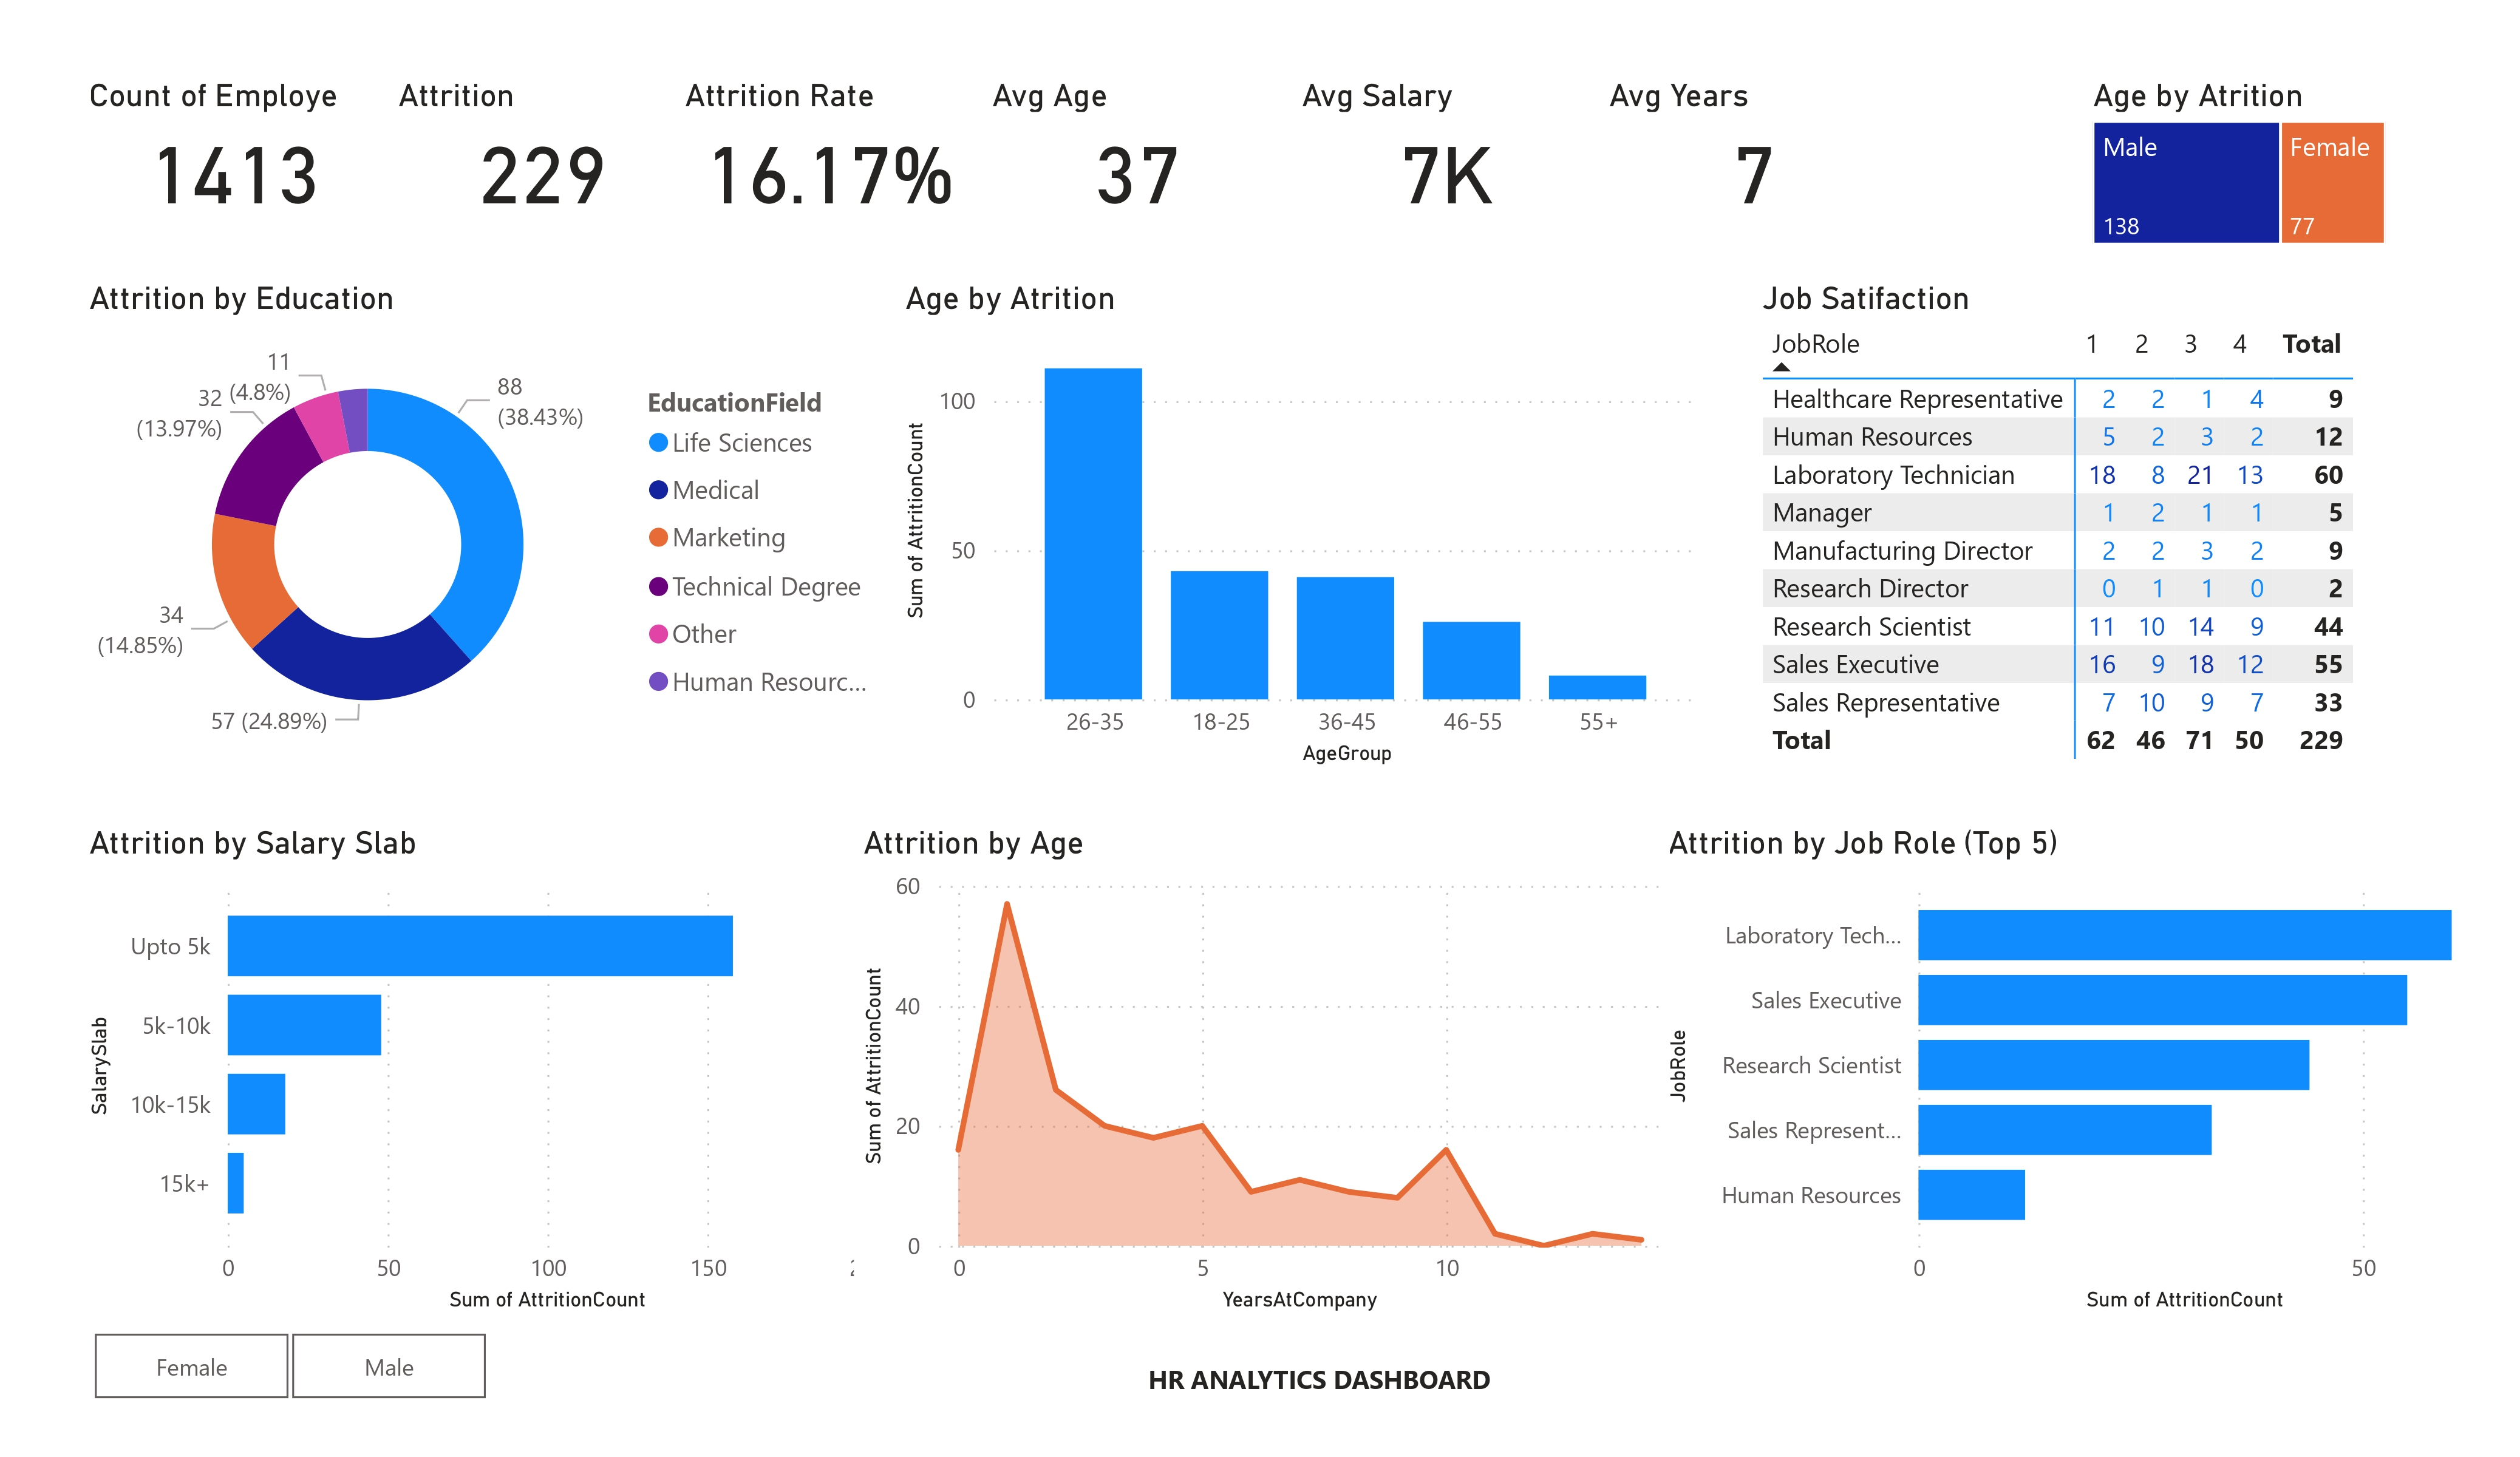

What the dashboard file says about the page in this screenshot:
{"tool":"powerbi","page":{"name":"Page 1","canvas":[1280,720],"ordinal":0},"visuals":[{"type":"card","title":"Count of Employe","fields":{"Values":["Count(HR_Analytics.EmpID)"]},"box":[18.5,15.6,162.4,77.8],"z":0},{"type":"card","title":"Attrition","fields":{"Values":["Sum(HR_Analytics.AttritionCount)"]},"box":[180.9,15.6,162.4,77.8],"z":1000},{"type":"card","title":"Attrition Rate","fields":{"Values":["HR_Analytics.AttritionRate"]},"box":[331.7,15.6,162.4,77.8],"z":2000},{"type":"card","title":"Avg Age","fields":{"Values":["Avg(HR_Analytics.Age)"]},"box":[494.1,15.6,162.4,77.8],"z":3000},{"type":"card","title":"Avg Salary","fields":{"Values":["Avg(HR_Analytics.MonthlyIncome)"]},"box":[656.5,15.6,162.4,77.8],"z":4000},{"type":"card","title":"Avg Years","fields":{"Values":["Avg(HR_Analytics.YearsAtCompany)"]},"box":[819,15.6,162.4,77.8],"z":5000},{"type":"donutChart","title":"Attrition by Education","fields":{"Y":["Sum(HR_Analytics.AttritionCount)"],"Category":["HR_Analytics.EducationField"]},"box":[18.2,122.7,429.5,261.4],"z":6000},{"type":"clusteredColumnChart","title":"Age by Atrition","fields":{"Category":["HR_Analytics.AgeGroup"],"Y":["Sum(HR_Analytics.AttritionCount)"]},"box":[447.7,122.7,429.5,261.4],"z":7000},{"type":"pivotTable","title":"Job Satifaction","fields":{"Rows":["HR_Analytics.JobRole"],"Columns":["HR_Analytics.JobSatisfaction"],"Values":["Sum(HR_Analytics.AttritionCount)"]},"box":[900,122.5,337.5,267.5],"z":8000},{"type":"clusteredBarChart","title":" Attrition by Salary Slab","fields":{"Category":["HR_Analytics.SalarySlab"],"Y":["Sum(HR_Analytics.AttritionCount)"]},"box":[18,410,430,262],"z":9000},{"type":"clusteredBarChart","title":"Attrition by Job Role (Top 5)","fields":{"Category":["HR_Analytics.JobRole"],"Y":["Sum(HR_Analytics.AttritionCount)"]},"box":[850,410,430,262],"z":10000},{"type":"stackedAreaChart","title":"Attrition by Age ","fields":{"Category":["HR_Analytics.YearsAtCompany"],"Y":["Sum(HR_Analytics.AttritionCount)"]},"box":[426,410,430,262],"z":11000},{"type":"treemap","title":"Age by Atrition","fields":{"Group":["HR_Analytics.Gender"],"Values":["Sum(HR_Analytics.AttritionCount)"]},"box":[1074,16,164,94],"z":12000},{"type":"slicer","fields":{"Values":["HR_Analytics.Gender"]},"box":[0,672,256,48],"z":13000},{"type":"textbox","box":[575.7,688.6,254.3,31.4],"z":14000}]}

Visuals, with their boxes on the page's 1280x720 design canvas (x1, y1, x2, y2). These are canvas units, not pixel positions in the 2520x1457 screenshot, which may show the page scaled, cropped or inside an application window:
"Count of Employe" card: x1=18 y1=16 x2=181 y2=93
"Attrition" card: x1=181 y1=16 x2=343 y2=93
"Attrition Rate" card: x1=332 y1=16 x2=494 y2=93
"Avg Age" card: x1=494 y1=16 x2=656 y2=93
"Avg Salary" card: x1=656 y1=16 x2=819 y2=93
"Avg Years" card: x1=819 y1=16 x2=981 y2=93
"Attrition by Education" donutChart: x1=18 y1=123 x2=448 y2=384
"Age by Atrition" clusteredColumnChart: x1=448 y1=123 x2=877 y2=384
"Job Satifaction" pivotTable: x1=900 y1=122 x2=1238 y2=390
" Attrition by Salary Slab" clusteredBarChart: x1=18 y1=410 x2=448 y2=672
"Attrition by Job Role (Top 5)" clusteredBarChart: x1=850 y1=410 x2=1280 y2=672
"Attrition by Age " stackedAreaChart: x1=426 y1=410 x2=856 y2=672
"Age by Atrition" treemap: x1=1074 y1=16 x2=1238 y2=110
slicer - HR_Analytics.Gender: x1=0 y1=672 x2=256 y2=720
textbox: x1=576 y1=689 x2=830 y2=720
